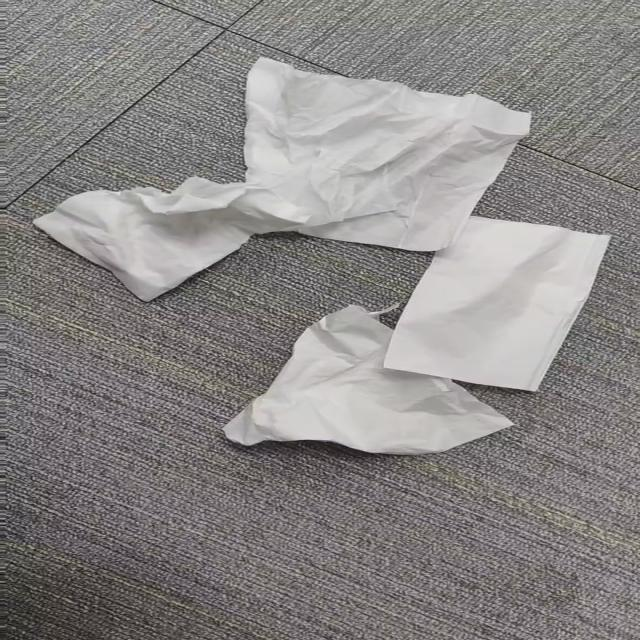paper: (34, 58, 528, 301), (223, 304, 512, 455), (384, 217, 609, 391)
